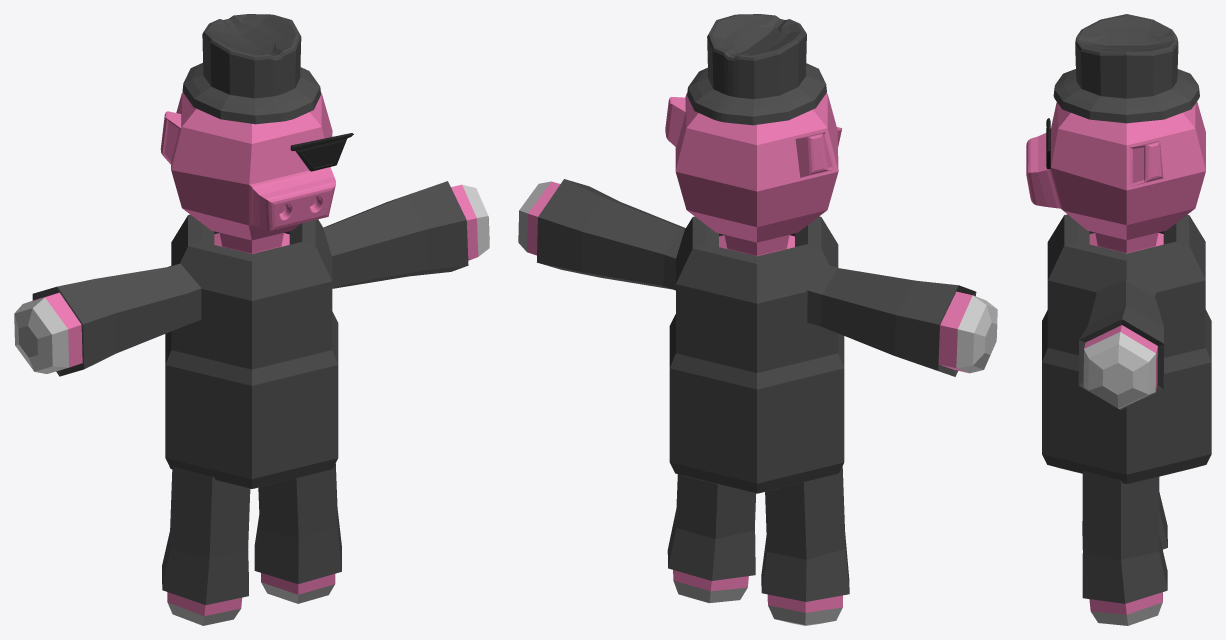
Rendered from PlayerModel_3p_v1.glb.
The picture shows the model from 3 angles, left to right: view 1: azimuth 30°, elevation 25°; view 2: azimuth 150°, elevation 25°; view 3: azimuth 270°, elevation 25°; orthographic projection. The views are drawn at different scales.
Visible parts, largest first — view 1: Pig, Arm_L, Arm_L.001, Leg_L, Hat, Leg_R, Glasses; view 2: Pig, Arm_L, Arm_L.001, Hat, Leg_L, Leg_R; view 3: Pig, Hat, Leg_R, Arm_L.001, Leg_L.
Part boxes in pixels (x1,y1,x2,y2): Pig: (160,92,338,488); Arm_L: (14,263,201,376); Arm_L.001: (323,181,489,288); Leg_L: (162,466,250,625); Hat: (182,14,320,124); Leg_R: (254,464,341,603); Glasses: (290,133,353,171); Pig: (665,93,844,493); Arm_L: (807,265,997,376); Arm_L.001: (518,179,685,290); Hat: (687,14,826,125); Leg_L: (761,466,849,625); Leg_R: (667,474,755,603); Pig: (1026,101,1211,484); Hat: (1053,14,1199,123); Leg_R: (1082,471,1167,625); Arm_L.001: (1078,279,1164,409); Leg_L: (1082,474,1167,549).
Bounding box in the file's own units: 1.82 × 2.18 × 0.6476.
